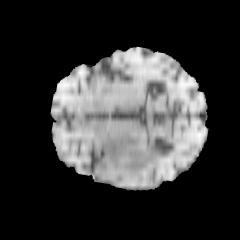glioma: (95, 133, 163, 185)
